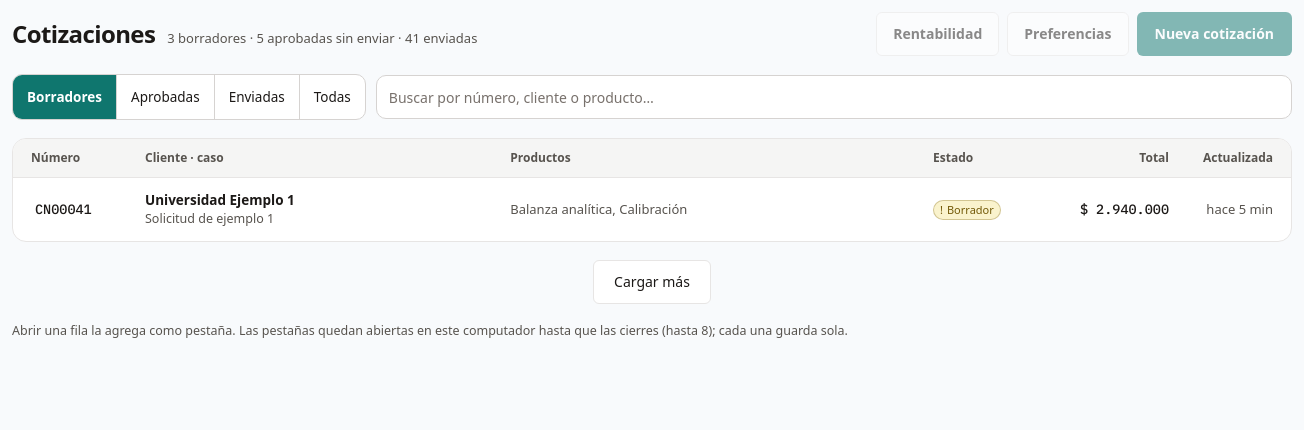
Test: QuoteListPane › starts the list over when the API refuses its cursor, and says so when more cannot load
This screenshot has width=1304, height=430.
Expected: the button "CN00041" is shown, [31,188,96,232]
Click the button "Cargar más" at (652, 282), box [593,260,711,304]
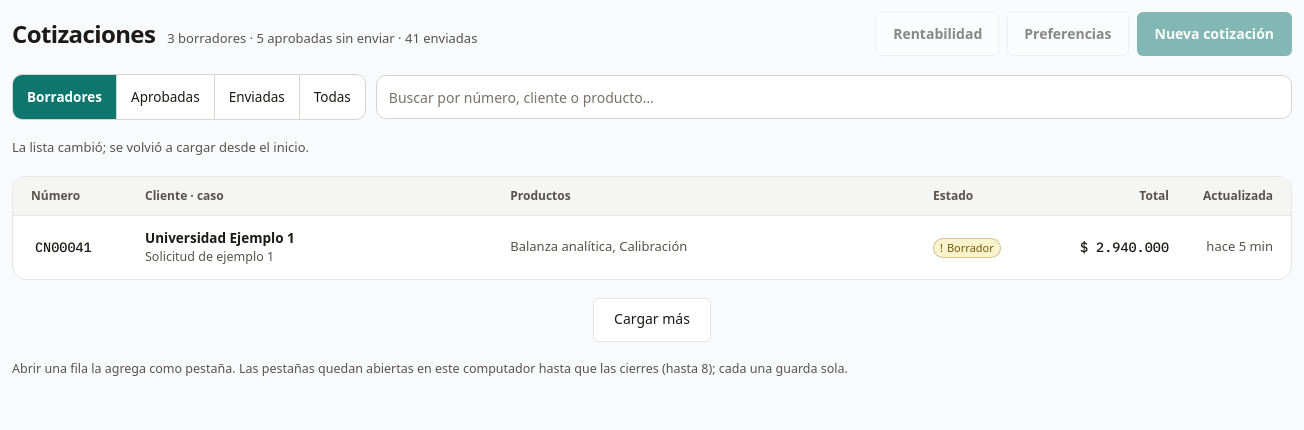
Expected: the button "CN00041" is shown, [31,225,96,269]
Expected: the message reads "La lista cambió; se volvió a cargar desde el inicio.", [12,138,309,156]
Click the button "Cargar más" at (652, 320), box [593,298,711,342]
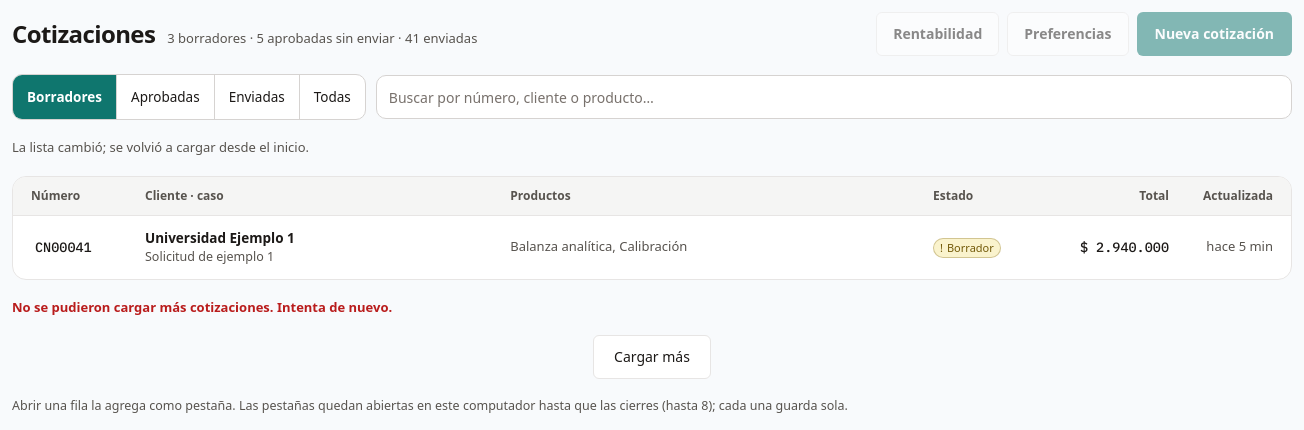
Expected: the button "CN00041" is shown, [31,225,96,269]
Expected: the message "No se pudieron cargar más cotizaciones. Intenta de nuevo." is shown, [12,298,392,316]
